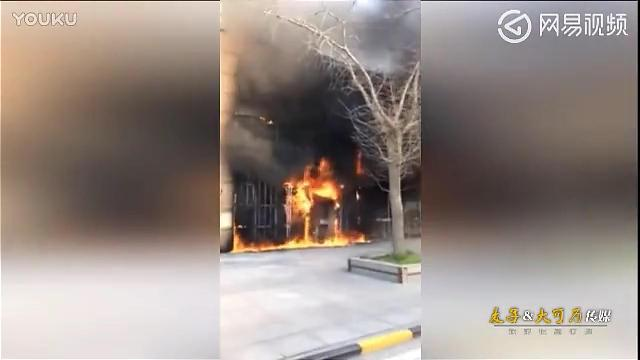fire: (312, 175, 340, 199), (292, 180, 310, 211), (278, 237, 320, 247), (242, 242, 278, 250), (320, 235, 348, 245), (318, 157, 332, 175), (349, 230, 366, 242), (232, 231, 242, 251), (302, 214, 310, 236)
